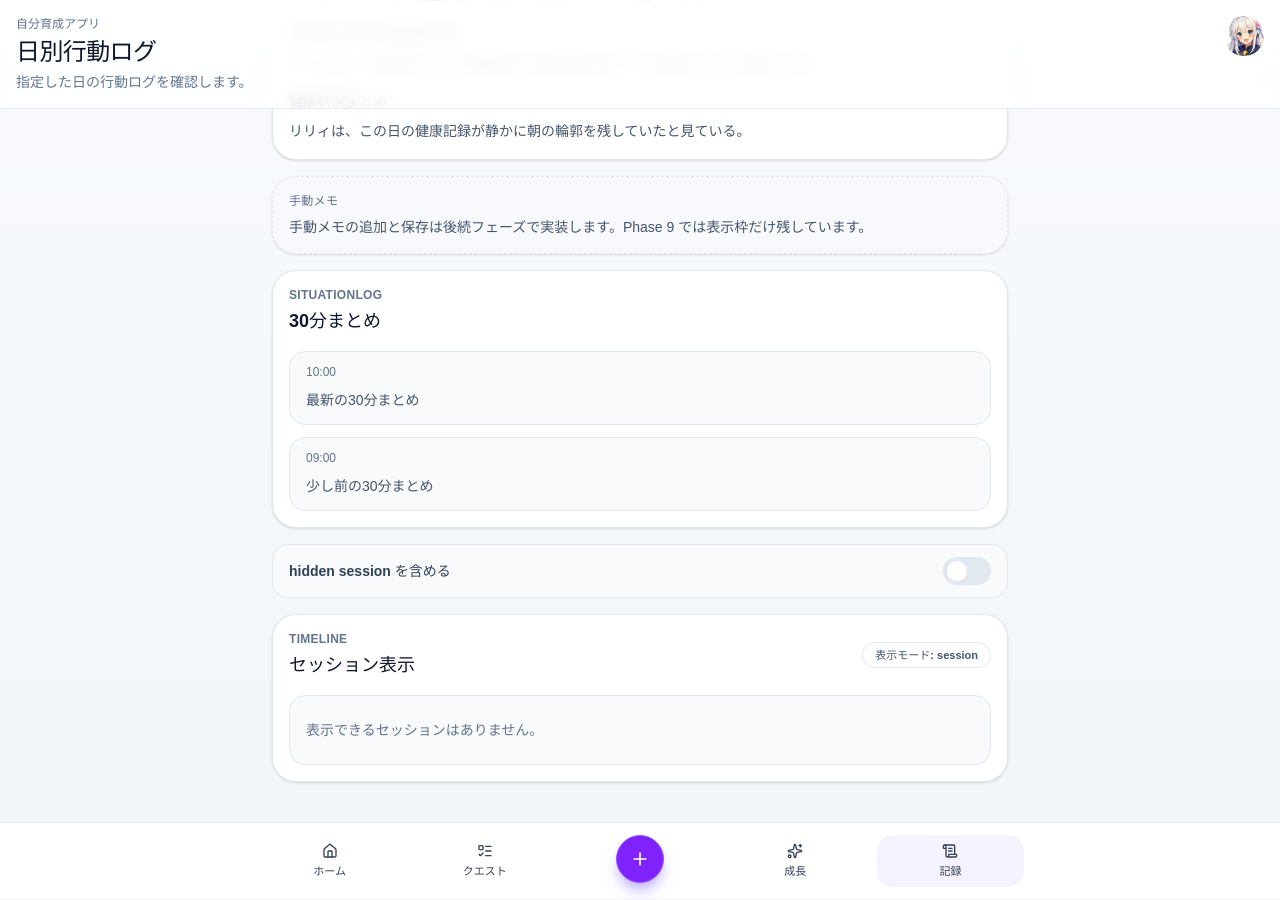
it: activity log routes › does not render restore buttons on day session cards even when hidden sessions are included
(page scrolled)
Click the switch named "Include hidden sessions in timeline" at (967, 571), box 943,557 -> 991,585
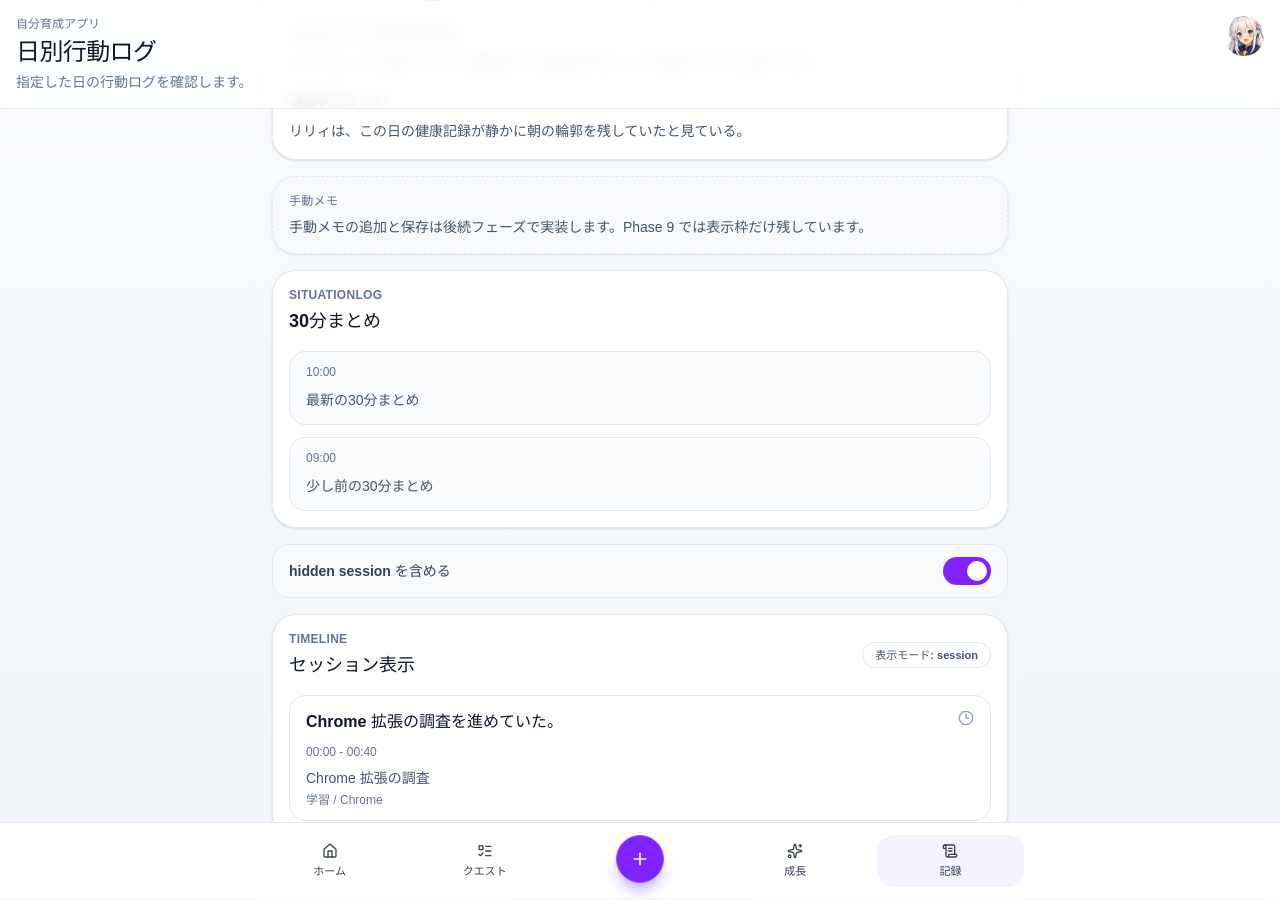
expect the element with test id "activity-session-session_hidden_day" is shown: met, box 289,695 -> 991,821
